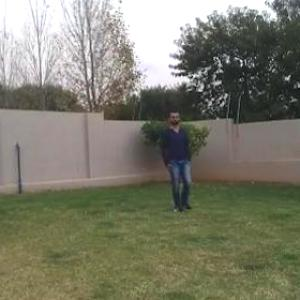follow: (166, 114, 192, 213)
